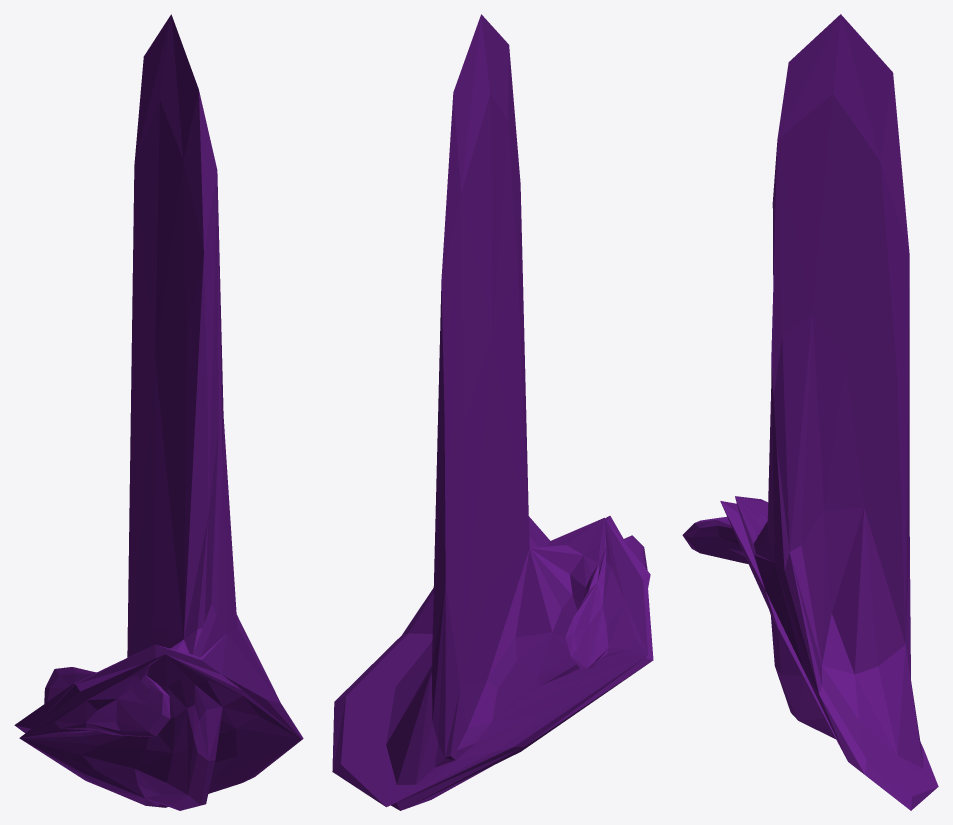
3 renders of one model, left to right at view 1: azimuth 30°, elevation 25°; view 2: azimuth 150°, elevation 25°; view 3: azimuth 270°, elevation 25°, orthographic. The views are drawn at different scales.
Visible parts, largest first — view 1: 705_Cube.2833; view 2: 705_Cube.2833; view 3: 705_Cube.2833.
Part boxes in pixels (x1,y1,x2,y2): 705_Cube.2833: (14,14,303,810); 705_Cube.2833: (332,14,653,810); 705_Cube.2833: (682,14,938,810).
Bounding box in the file's own units: 5.16 × 13.11 × 4.02.
